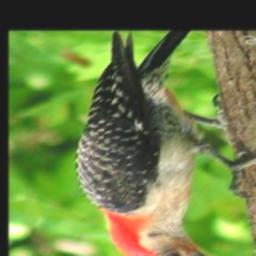Woodpecker: (73, 31, 256, 256)
